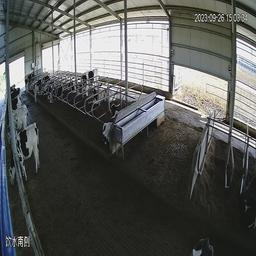cow: (7, 118, 40, 189), (239, 175, 256, 237), (99, 102, 120, 145), (6, 102, 27, 144), (77, 65, 100, 97), (88, 85, 117, 105), (33, 74, 51, 105), (7, 91, 22, 114), (48, 85, 65, 105), (24, 72, 35, 94), (67, 79, 80, 95), (42, 83, 53, 100)
